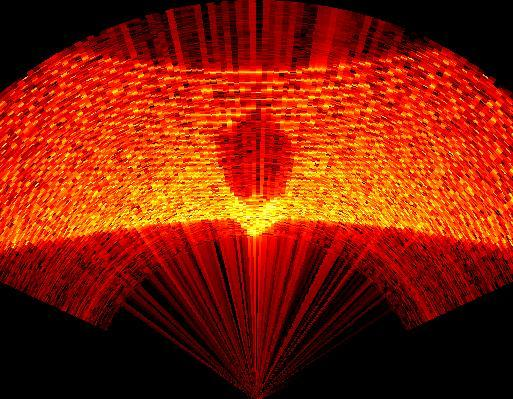box_crate: (215, 109, 294, 207)
